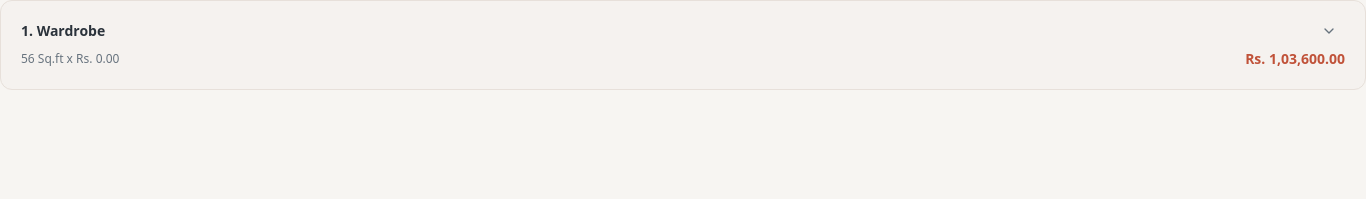
Scenario: collapses unfinished items when a room or item is added and preserves their inputs
Later steps or results of the test are not shown.
Click the button "1. Wardrobe" at (71, 30), box top-left (21, 21), bottom-right (1337, 41)
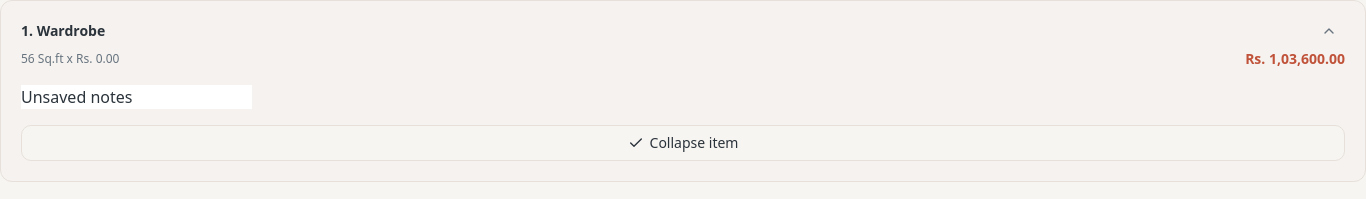
Expected: the field named "Description" holds "Unsaved notes", top-left (21, 85), bottom-right (252, 109)
